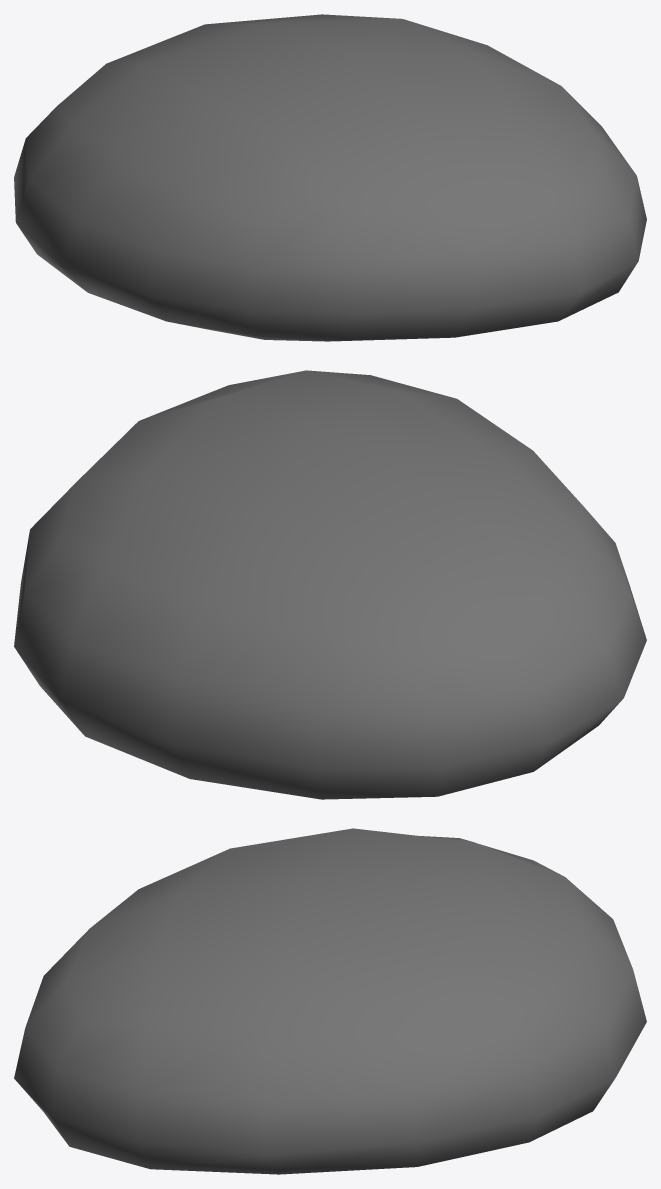
The model's file is Pebble_2a.gltf.
3 views of the same model, one above another, from view 1: azimuth 30°, elevation 25°; view 2: azimuth 150°, elevation 25°; view 3: azimuth 270°, elevation 25° (orthographic). The views are drawn at different scales.
Parts seen in each view (by area): view 1: Pebble_2a; view 2: Pebble_2a; view 3: Pebble_2a.
Boxes of the visible parts, <box> form: Pebble_2a: <box>14,14,646,341</box>; Pebble_2a: <box>14,370,646,799</box>; Pebble_2a: <box>14,828,646,1174</box>.
Bounding box in the file's own units: 38.8 × 16.23 × 39.98.
1 material, 1 textured.
